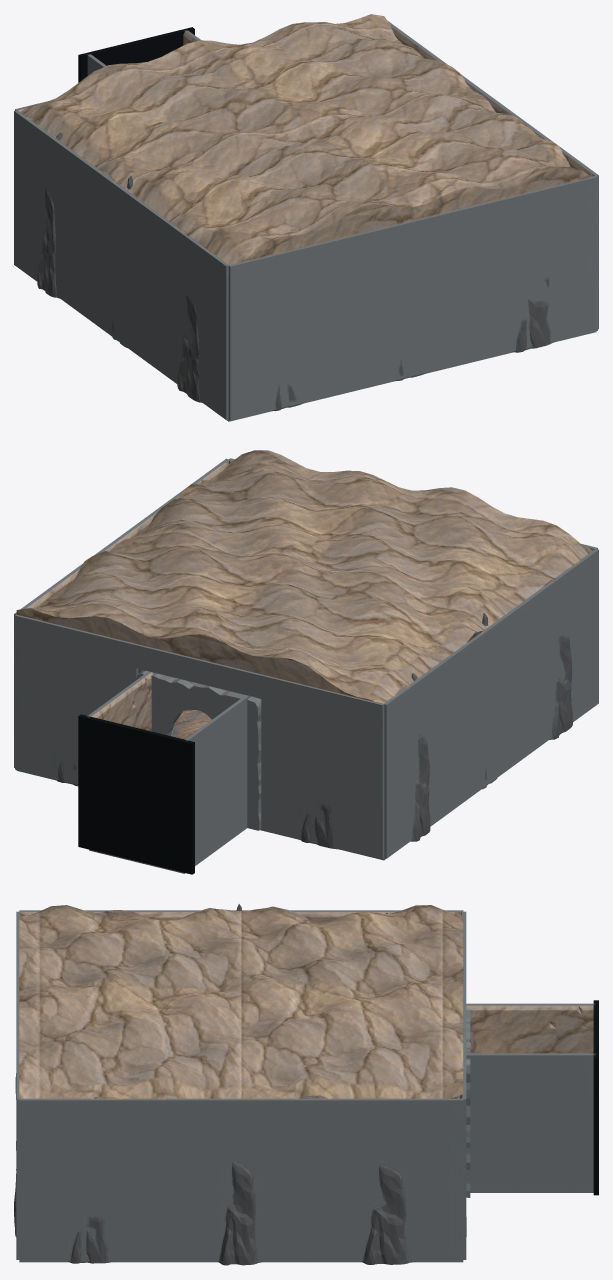
Rendered from room.glb.
3 renders of one model, top to bottom at view 1: azimuth 30°, elevation 25°; view 2: azimuth 150°, elevation 25°; view 3: azimuth 270°, elevation 25°, orthographic. The views are drawn at different scales.
Parts seen in each view (by area): view 1: PENTAGRAM-ROOM; view 2: PENTAGRAM-ROOM; view 3: PENTAGRAM-ROOM.
Part boxes in pixels (x1=…): PENTAGRAM-ROOM: x1=14, y1=14, x2=598, y2=421; PENTAGRAM-ROOM: x1=14, y1=450, x2=598, y2=874; PENTAGRAM-ROOM: x1=14, y1=904, x2=598, y2=1265.
Bounding box in the file's own units: 10.4 × 4.79 × 13.18.
1 material, 1 textured.
